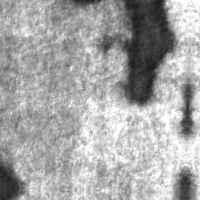patches: (117, 0, 176, 105), (0, 148, 21, 188)
